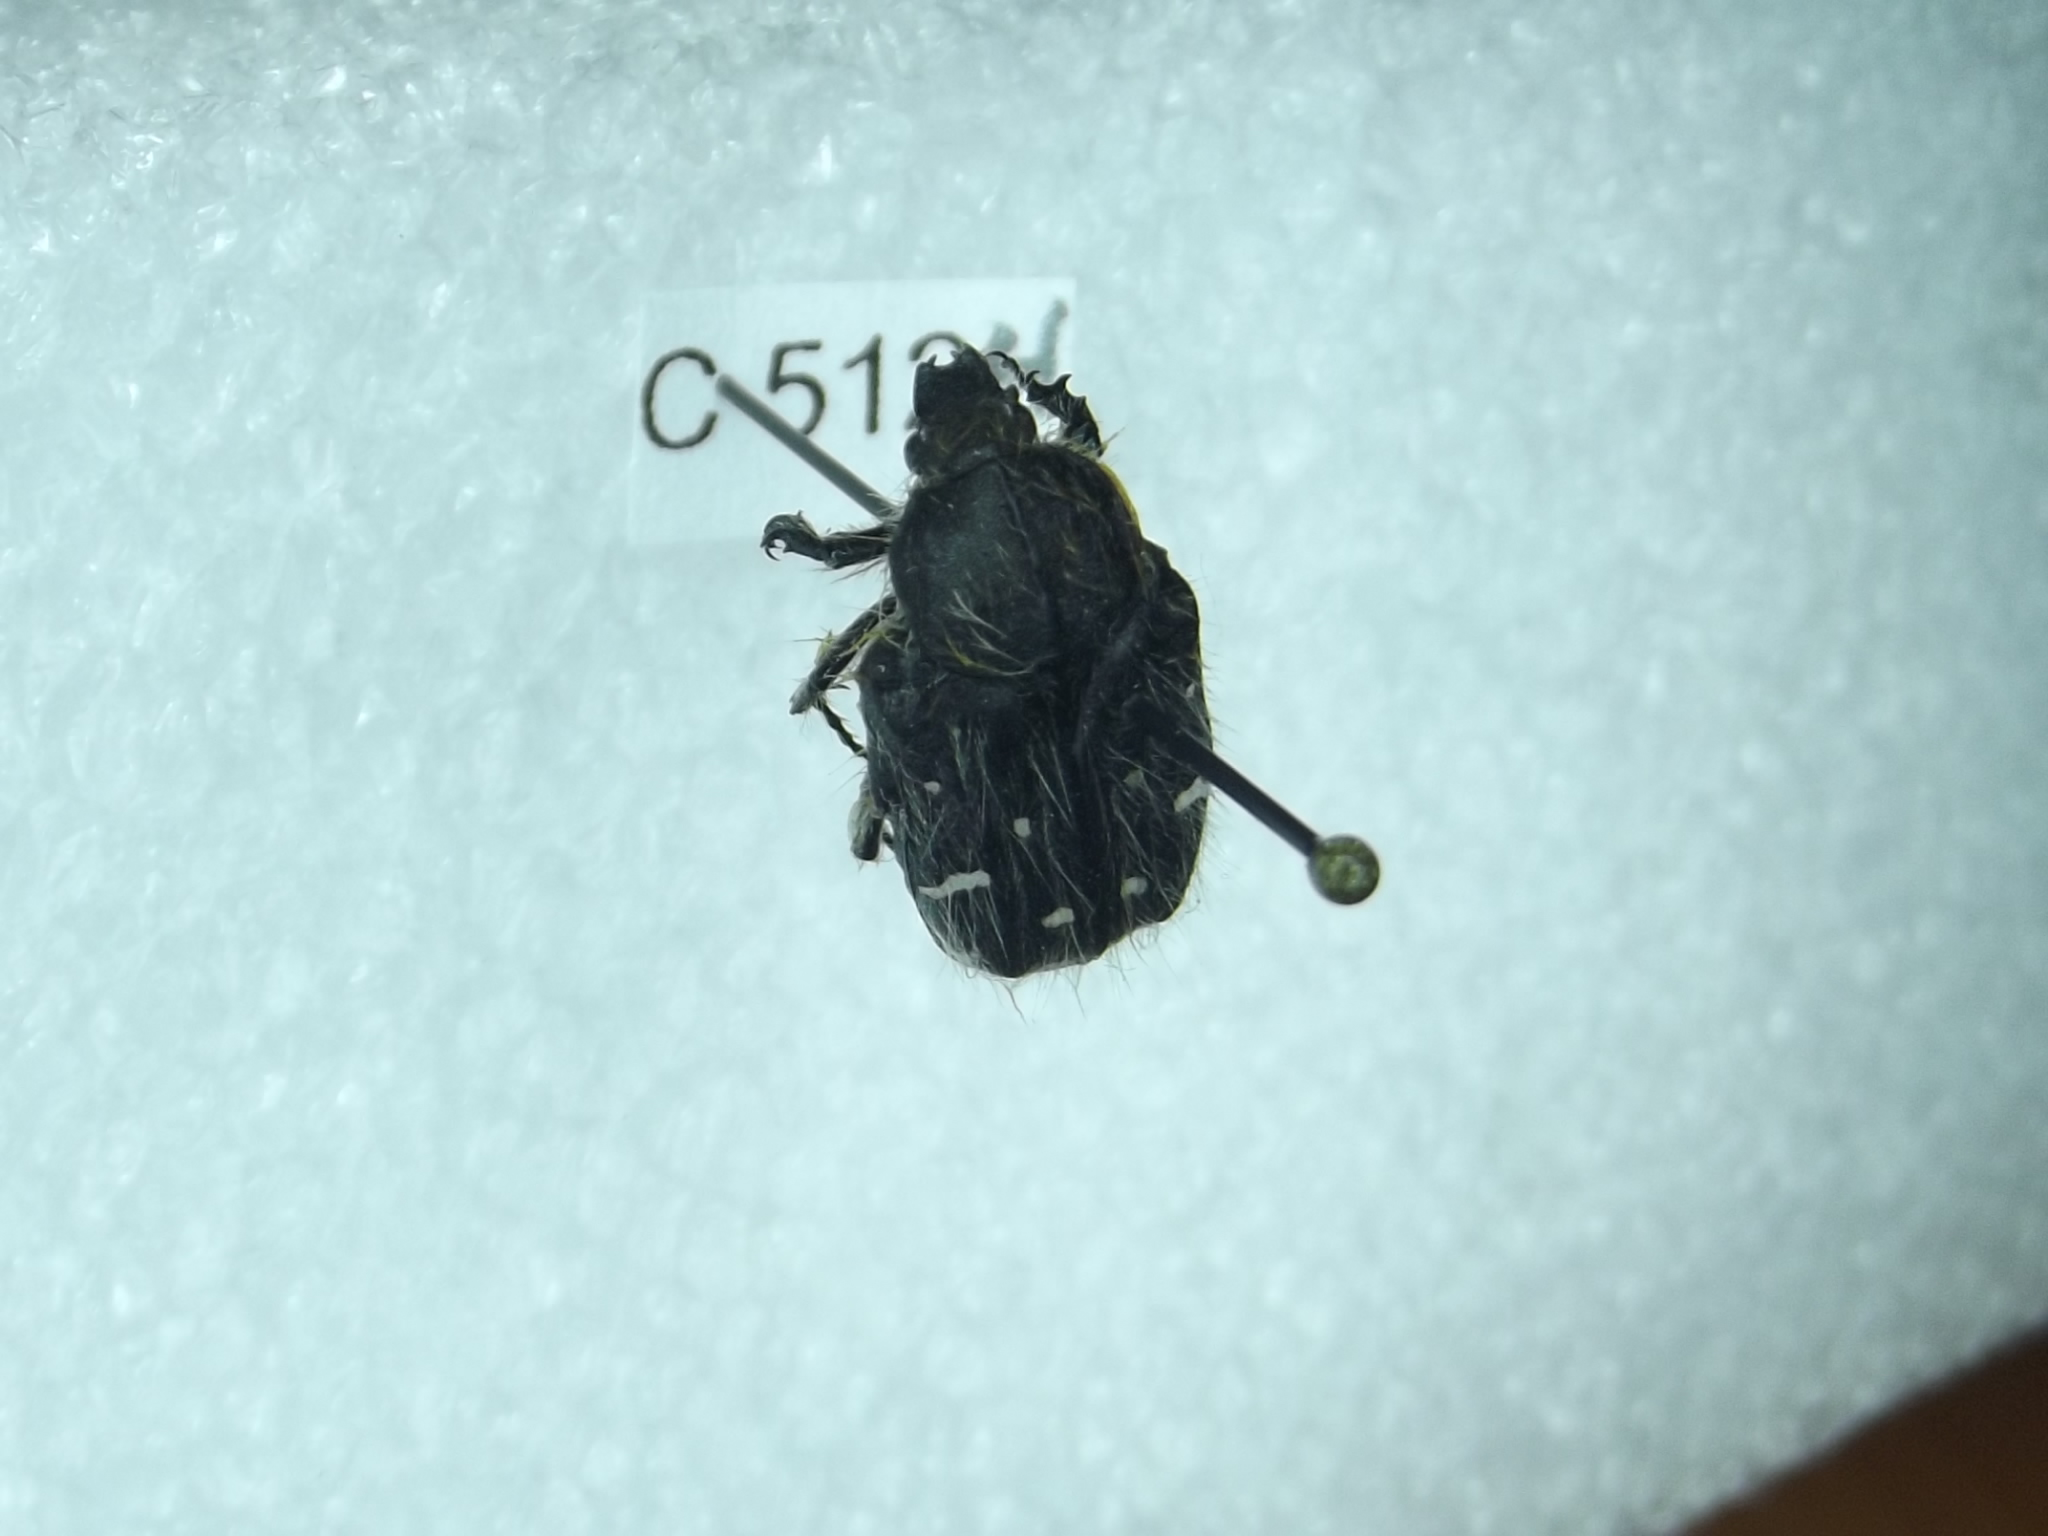Tropinota_senicula: (743, 326, 1243, 1039)
